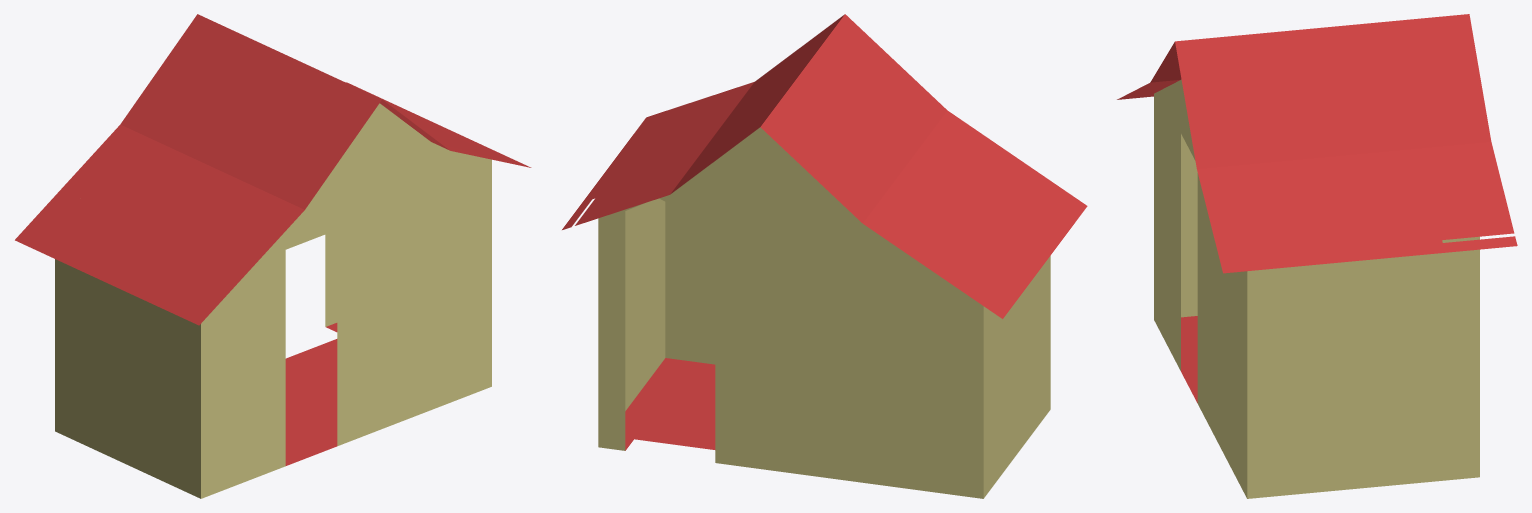
3 renders of one model, left to right at view 1: azimuth 30°, elevation 25°; view 2: azimuth 150°, elevation 25°; view 3: azimuth 270°, elevation 25°, orthographic. The views are drawn at different scales.
Bounding box in the file's own units: 17.39 × 12.68 × 13.29.
